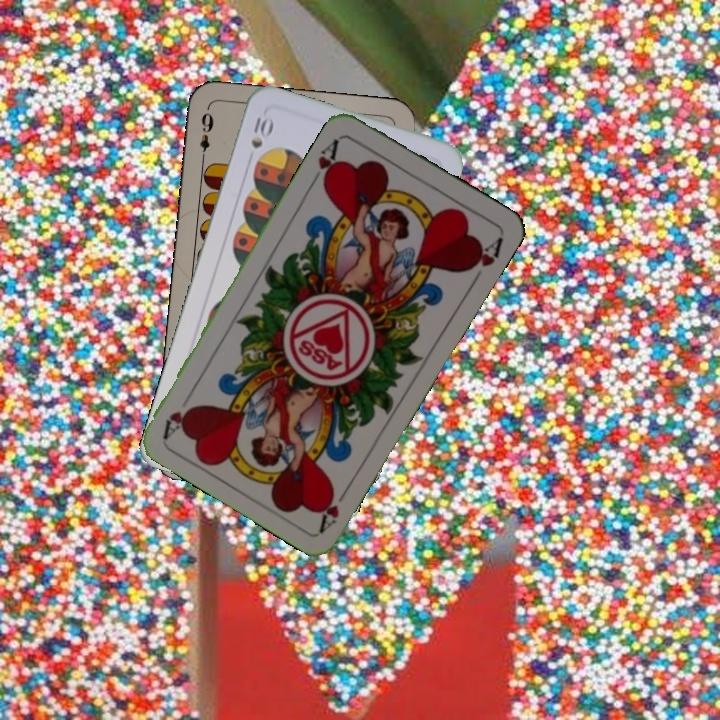E9: (196, 105, 216, 164)
HA: (314, 480, 353, 534), (307, 134, 342, 191)
S10: (247, 112, 274, 152)
